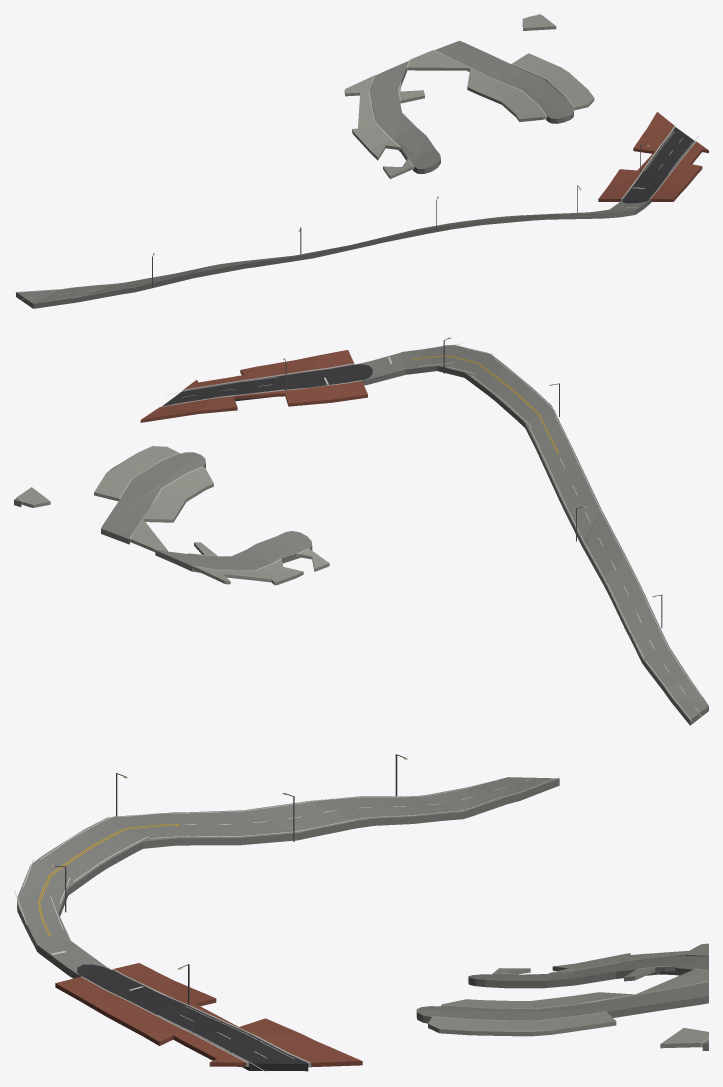
The picture shows the model from 3 angles, top to bottom: view 1: azimuth 30°, elevation 25°; view 2: azimuth 150°, elevation 25°; view 3: azimuth 270°, elevation 25°; orthographic projection. The views are drawn at different scales.
Bounding box in the file's own units: 150 × 34.31 × 104.
